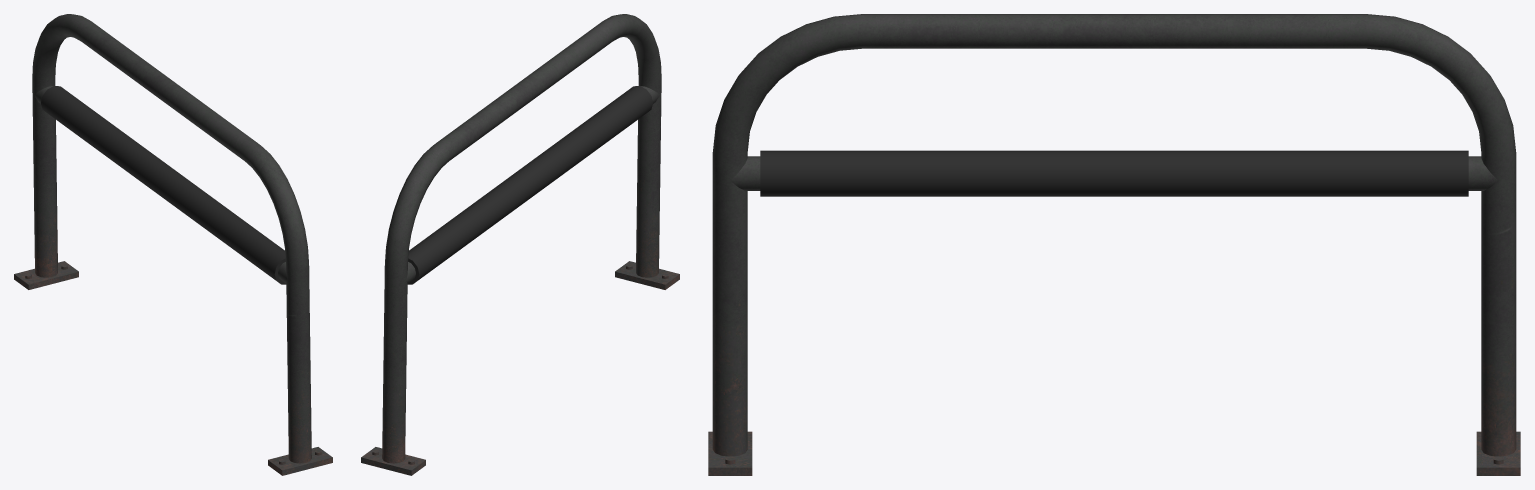
3 views of the same model, side by side, from view 1: azimuth 30°, elevation 25°; view 2: azimuth 150°, elevation 25°; view 3: azimuth 270°, elevation 25° (orthographic). The views are drawn at different scales.
Visible parts, largest first — view 1: Bike_Rack_Staple4; view 2: Bike_Rack_Staple4; view 3: Bike_Rack_Staple4.
Boxes of the visible parts, x1,y1,x2,y2 form: Bike_Rack_Staple4: (14,14,332,475); Bike_Rack_Staple4: (361,14,679,475); Bike_Rack_Staple4: (708,14,1520,475).
Bounding box in the file's own units: 0.1526 × 0.8387 × 1.4.
1 material, 1 textured.
